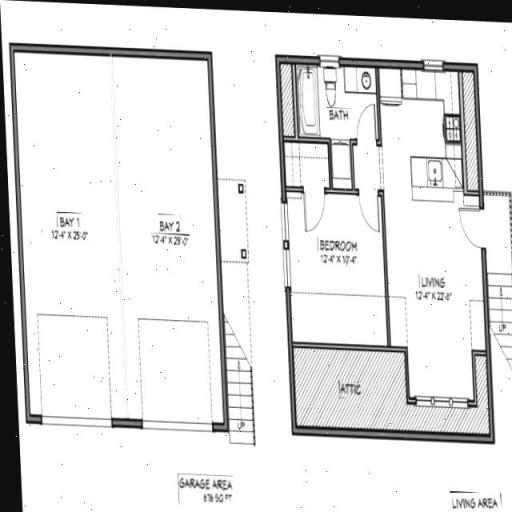bathroom: (282, 60, 378, 185)
bedroom: (292, 194, 385, 329)
garage: (16, 54, 227, 465)
hall: (384, 75, 497, 397)
